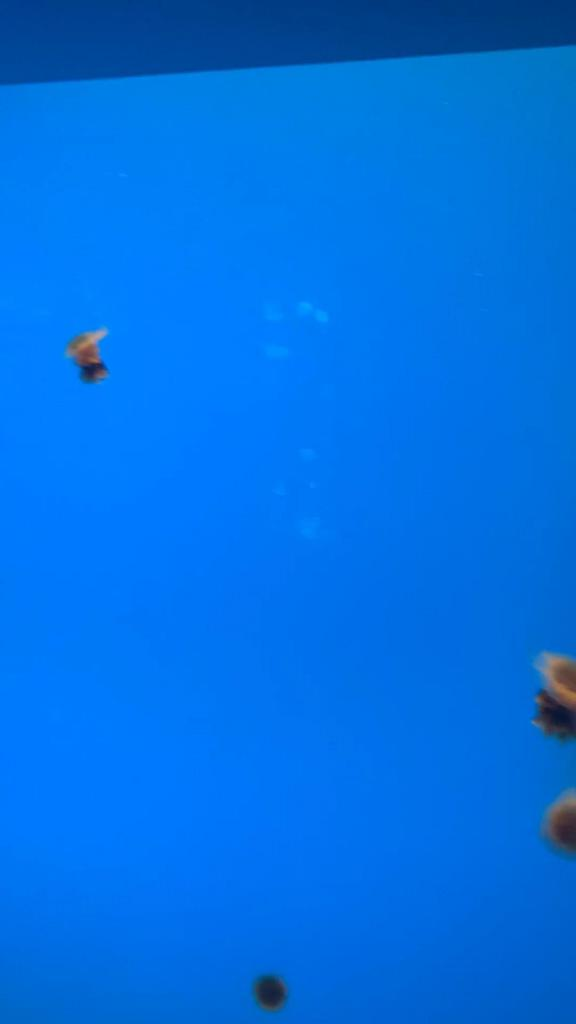jellyfish: (532, 648, 574, 730), (60, 328, 112, 384), (541, 784, 575, 858), (250, 970, 288, 1014)
